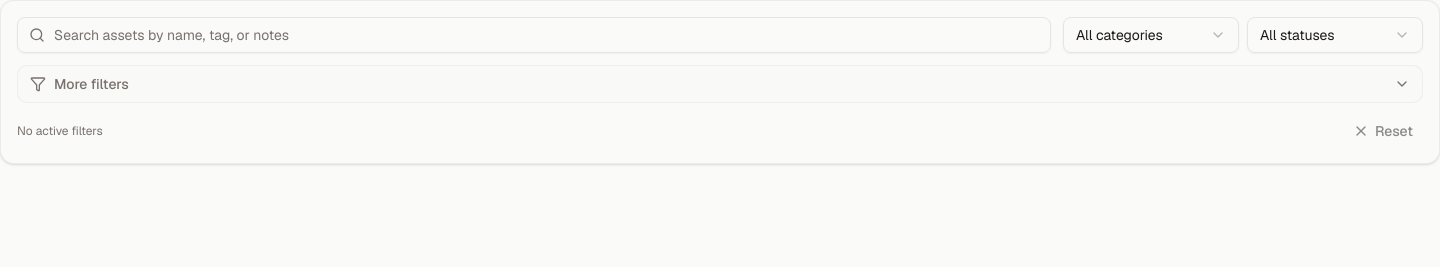
Test case: AssetFilters › exposes accessible labels for custom location and tag filters
Click the button "More filters": (91, 84) [18,66,1422,102]
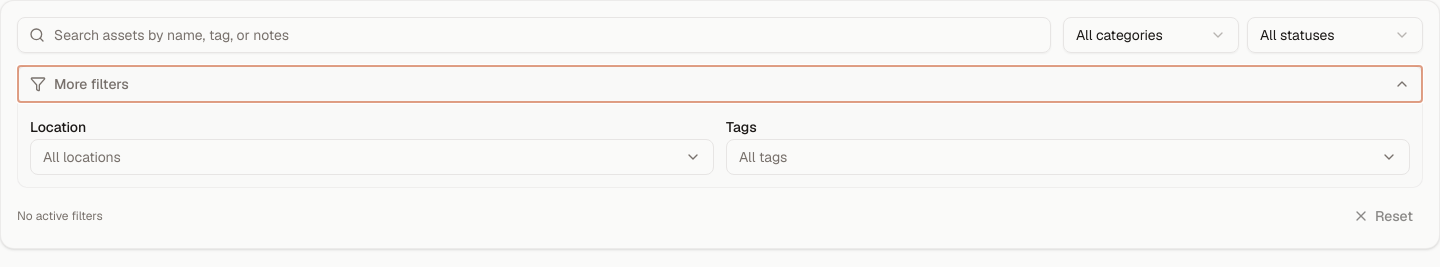
Check: the button labelled "All locations" is shown, box [30,139,714,175]
Check: the button labelled "All tags" is shown, box [726,139,1410,175]
